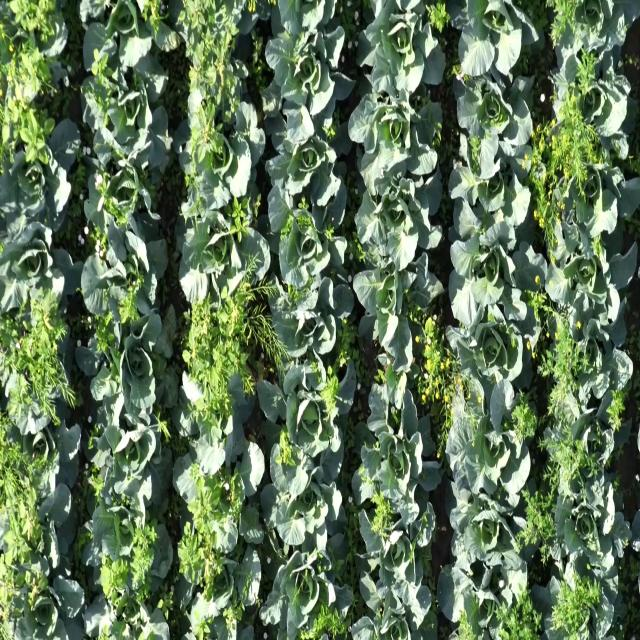holes: (256, 352, 359, 488), (445, 474, 539, 612), (262, 101, 350, 230), (544, 225, 640, 330)
